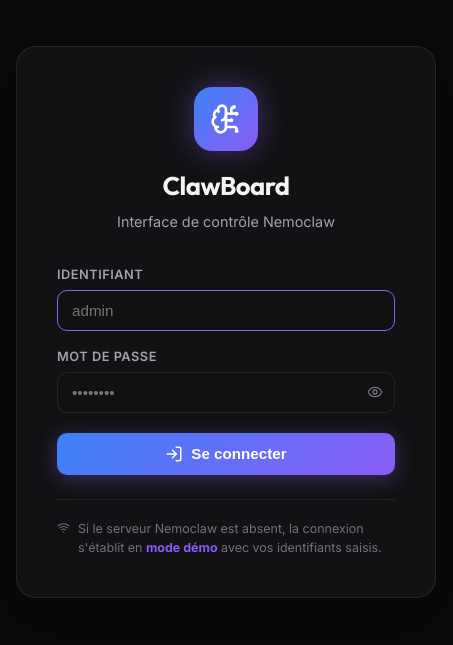
it: LoginPage › clears error when user starts typing after an error
Click the button "Se connecter": coordinates (226, 454) [57,433,395,475]
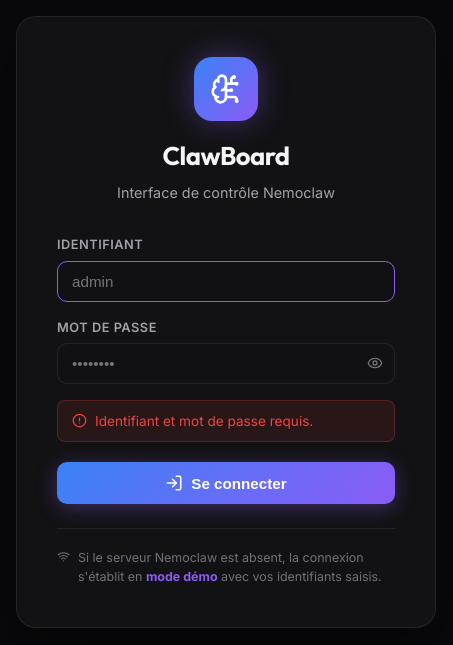
Result: the text "Identifiant et mot de passe requis." is shown at [57,400,395,442]
In the field with placeholder "admin": coordinates (226, 281) [57,261,395,302], type "a"
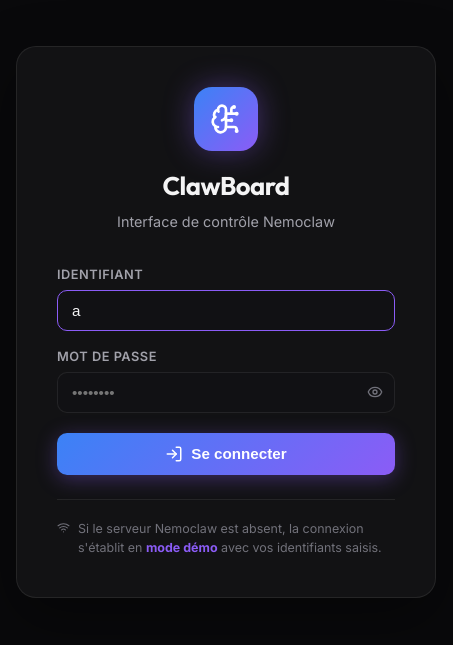
Result: the text "Identifiant et mot de passe requis" is gone
